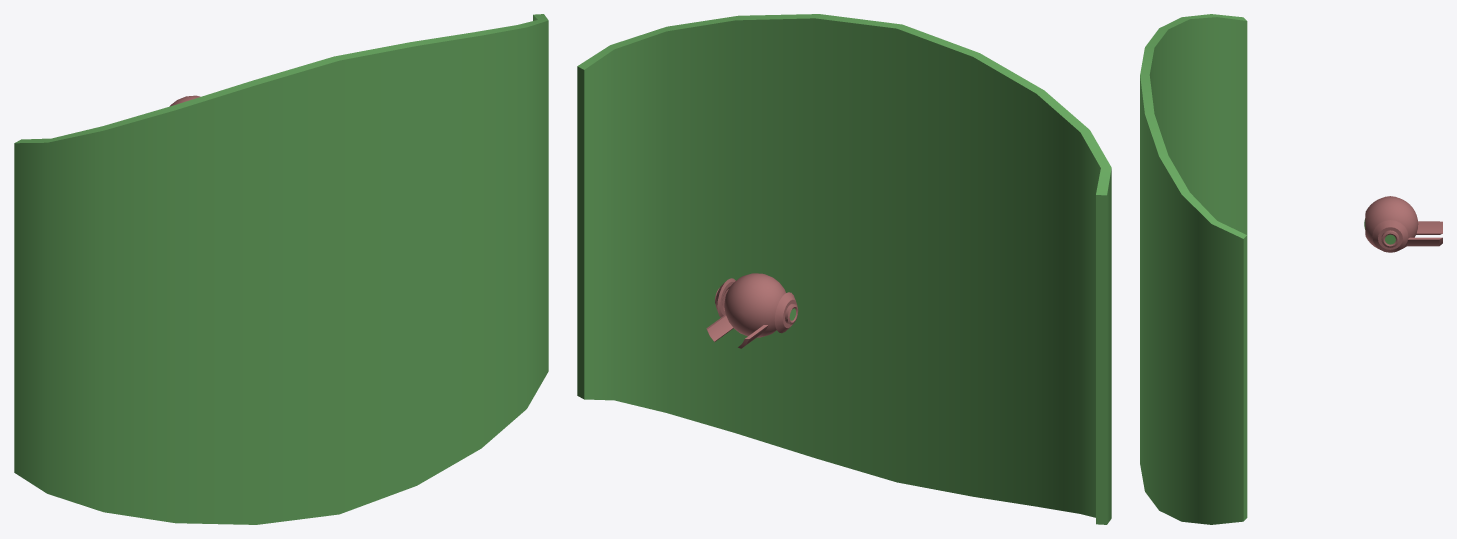
File: player_shield_drone.fbx
3 renders of one model, left to right at view 1: azimuth 30°, elevation 25°; view 2: azimuth 150°, elevation 25°; view 3: azimuth 270°, elevation 25°, orthographic. The views are drawn at different scales.
Parts seen in each view (by area): view 1: shield; view 2: shield, player_shield, pCylinder2; view 3: shield, player_shield, pCylinder1.
Boxes of the visible parts, x1,y1,x2,y2 form: shield: (14, 14, 548, 524); shield: (577, 14, 1111, 524); player_shield: (706, 273, 785, 348); pCylinder2: (774, 292, 798, 333); shield: (1140, 14, 1247, 524); player_shield: (1364, 196, 1442, 248); pCylinder1: (1372, 220, 1408, 252).
Bounding box in the file's own units: 2694 × 2205 × 1555.
